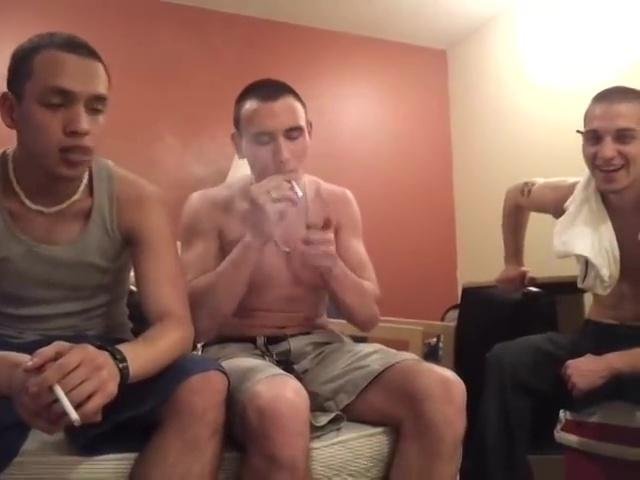cigarette: (49, 382, 86, 432), (290, 179, 309, 199)
